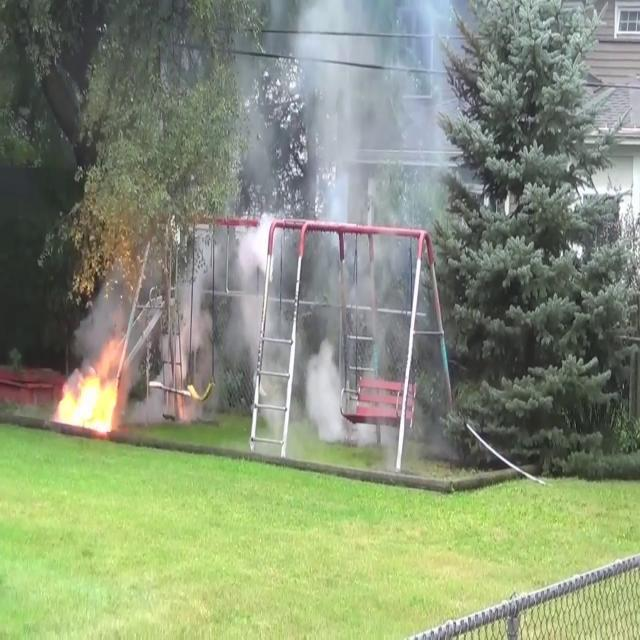Fire: (54, 347, 128, 437)
Smoke: (222, 2, 466, 430)
